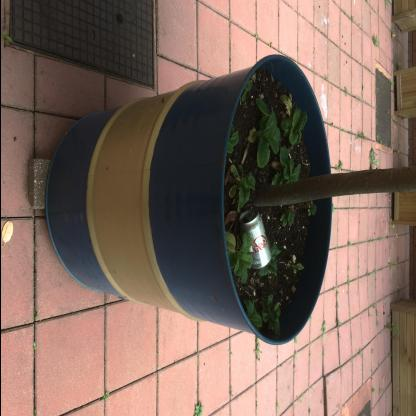metal: (238, 208, 271, 270)
